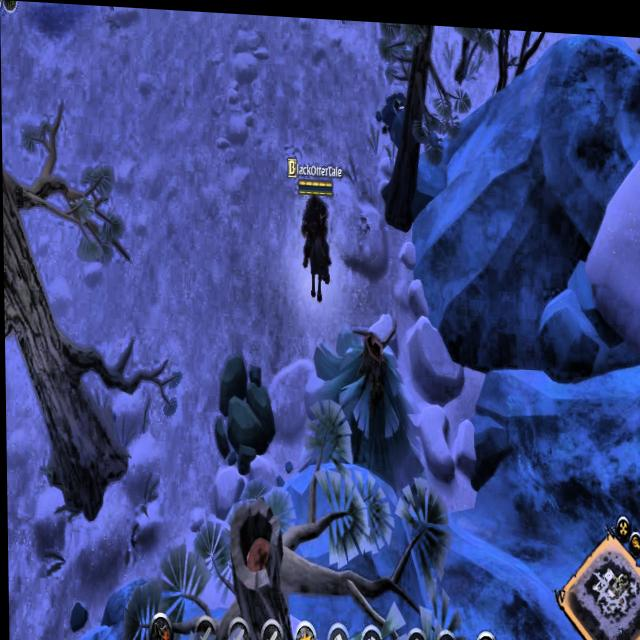sandstone: (211, 345, 277, 478)
